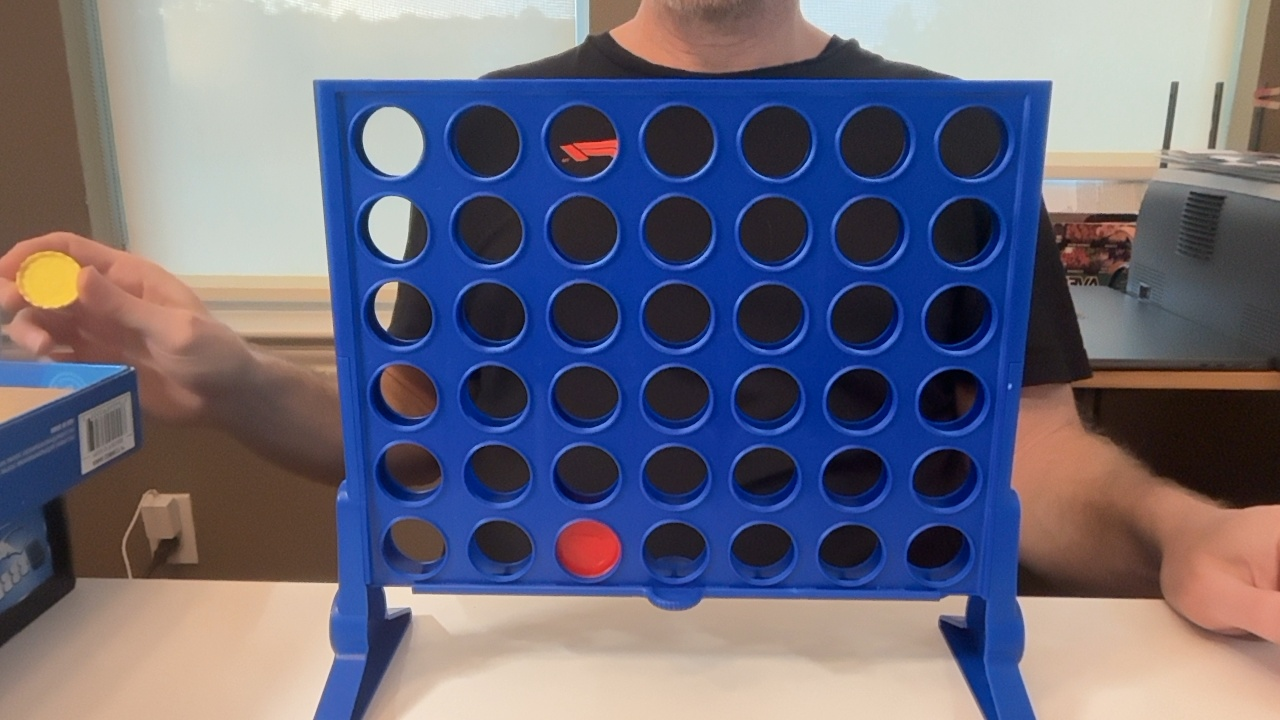red piece: (556, 520, 620, 578)
